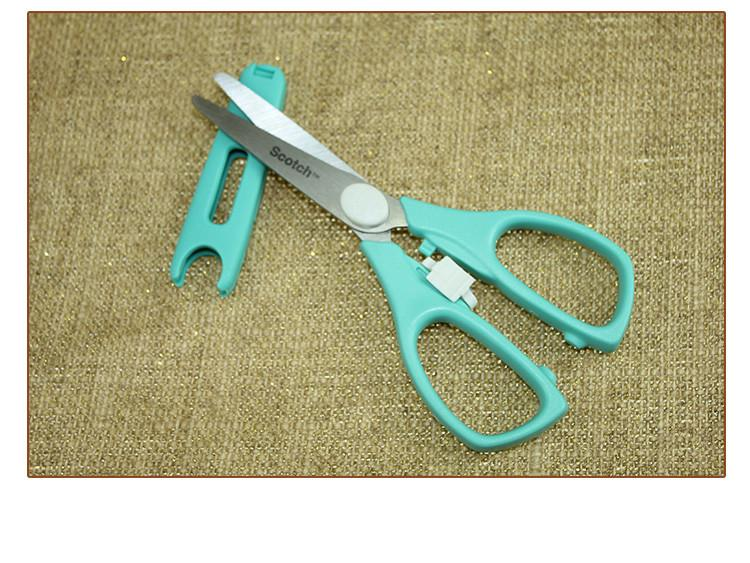scissor: (188, 52, 674, 455)
